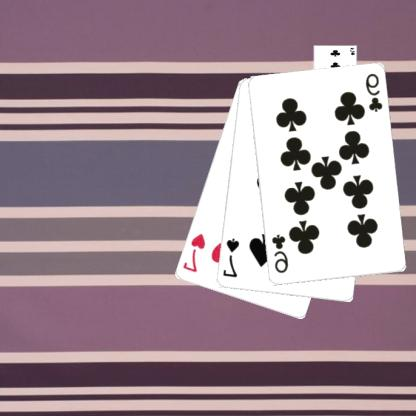7H: (181, 231, 208, 274)
7S: (221, 236, 242, 279)
9C: (365, 71, 385, 114), (271, 232, 291, 274)
